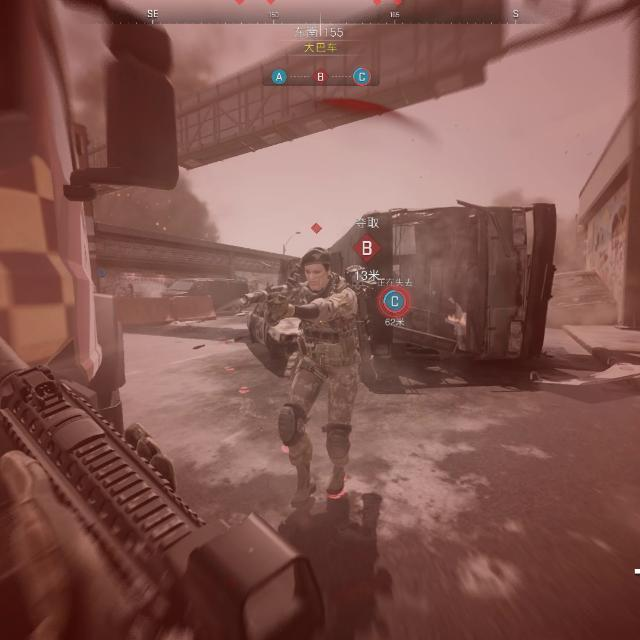MW2_body: (269, 223, 361, 499)
